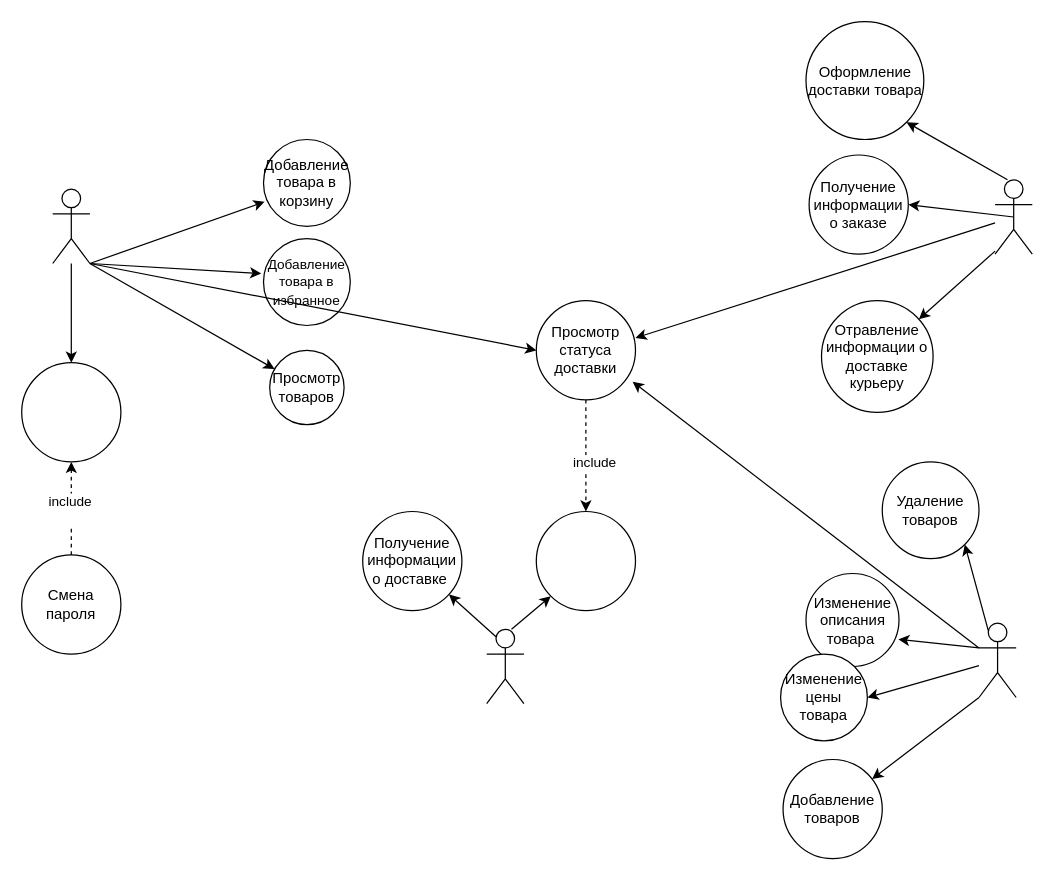
The diagram is 1054 pixels wide and 880 high, and some of its shapes have lost their labels. Here are the shapes that lost their labels. From the top down, the centre of each, then its label:
At point (70, 226): "users".
At point (1013, 216): "logist".
At point (70, 411): "Регистарция и авторизация".
At point (585, 560): "Отчет по статусу доставки".
At point (504, 666): "courier".
At point (997, 660): "admin".
